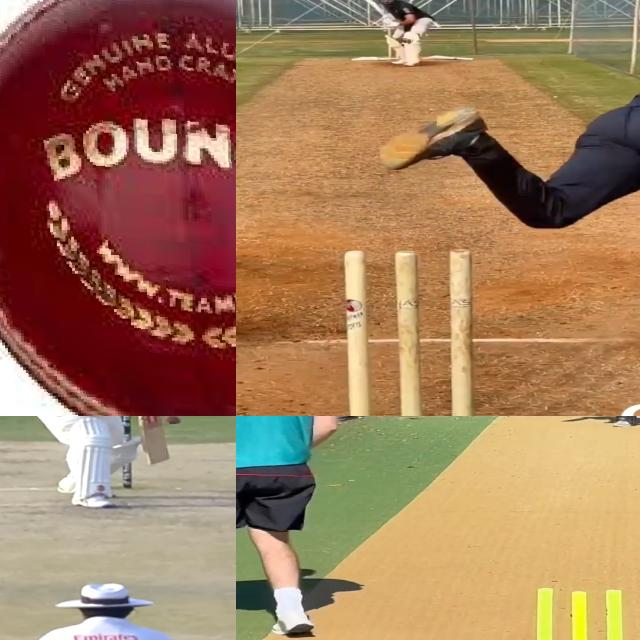Cricket ball: (0, 0, 236, 416), (162, 416, 182, 424), (402, 37, 412, 44)
Stumps: (340, 245, 478, 416)
